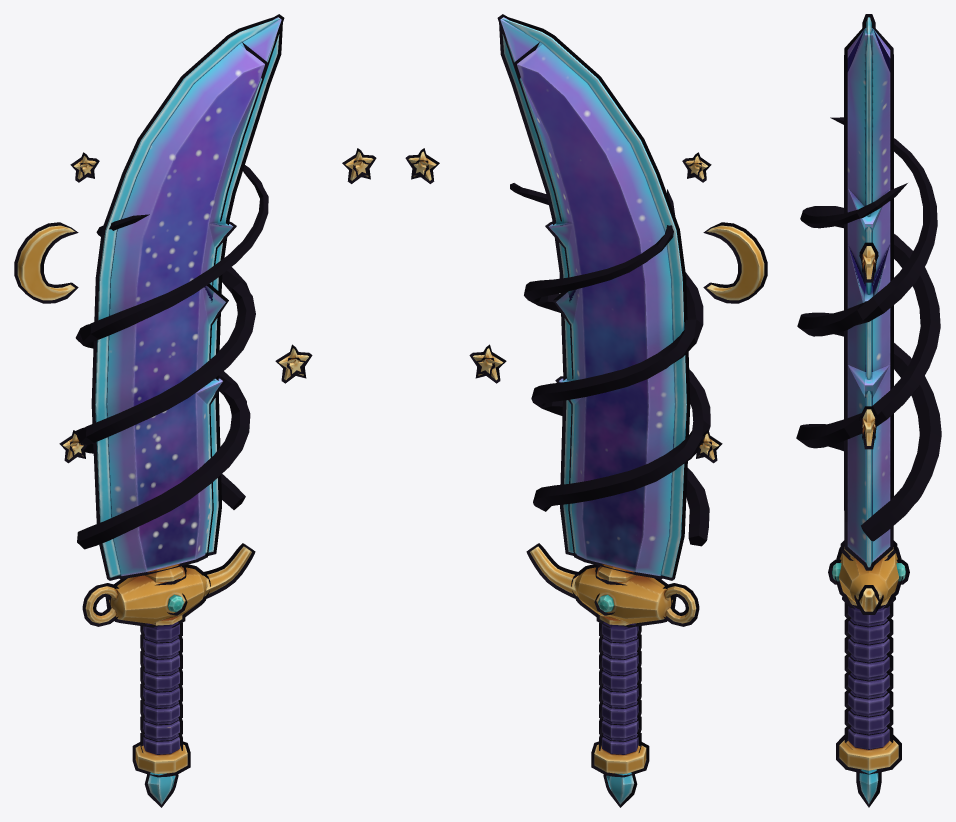
Rendered from DjinnKingScimitar.fbx.
3 views of the same model, side by side, from view 1: azimuth 30°, elevation 25°; view 2: azimuth 150°, elevation 25°; view 3: azimuth 270°, elevation 25° (orthographic). The views are drawn at different scales.
Parts seen in each view (by area): view 1: DjinnKingScimitar, DjinnKingScimitarOutline, DjinnKingScimitarDjinnGlow; view 2: DjinnKingScimitar, DjinnKingScimitarOutline, DjinnKingScimitarDjinnGlow; view 3: DjinnKingScimitar, DjinnKingScimitarOutline, DjinnKingScimitarDjinnGlow.
Boxes of the visible parts, box(x1,y1,x2,y2) form: DjinnKingScimitar: box(17, 17, 373, 773); DjinnKingScimitarOutline: box(14, 14, 376, 807); DjinnKingScimitarDjinnGlow: box(95, 18, 280, 804); DjinnKingScimitar: box(408, 17, 764, 773); DjinnKingScimitarOutline: box(405, 14, 767, 807); DjinnKingScimitarDjinnGlow: box(501, 18, 686, 804); DjinnKingScimitar: box(832, 28, 905, 770); DjinnKingScimitarOutline: box(796, 14, 941, 807); DjinnKingScimitarDjinnGlow: box(859, 17, 878, 803).
Size of the model in its own units: 257 by 524 by 82.45.
2 materials, 1 textured.
